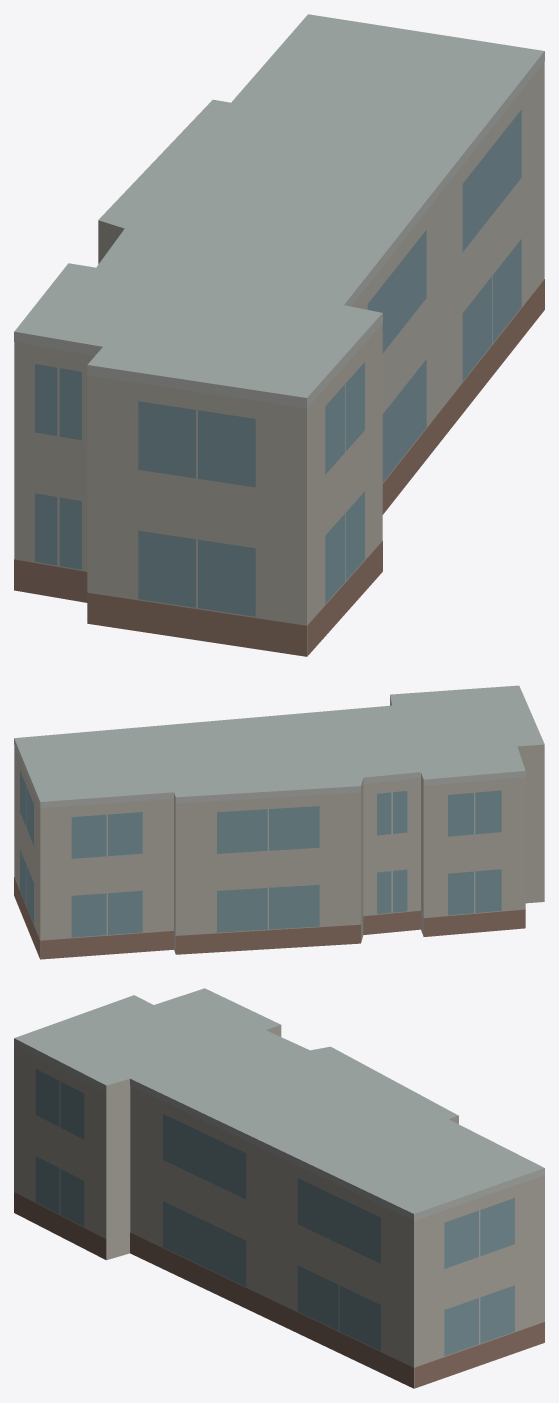
Rendered from survey-upis-32676309.glb.
The picture shows the model from 3 angles, top to bottom: view 1: azimuth 30°, elevation 25°; view 2: azimuth 150°, elevation 25°; view 3: azimuth 270°, elevation 25°; orthographic projection. The views are drawn at different scales.
Parts seen in each view (by area): view 1: survey-upis-32676309.tmp; view 2: survey-upis-32676309.tmp; view 3: survey-upis-32676309.tmp.
Boxes of the visible parts, x1=… form: survey-upis-32676309.tmp: x1=14, y1=14, x2=544, y2=656; survey-upis-32676309.tmp: x1=14, y1=685, x2=544, y2=959; survey-upis-32676309.tmp: x1=14, y1=988, x2=544, y2=1388.
Size of the model in its own units: 16.92 by 6.1 by 16.81.
